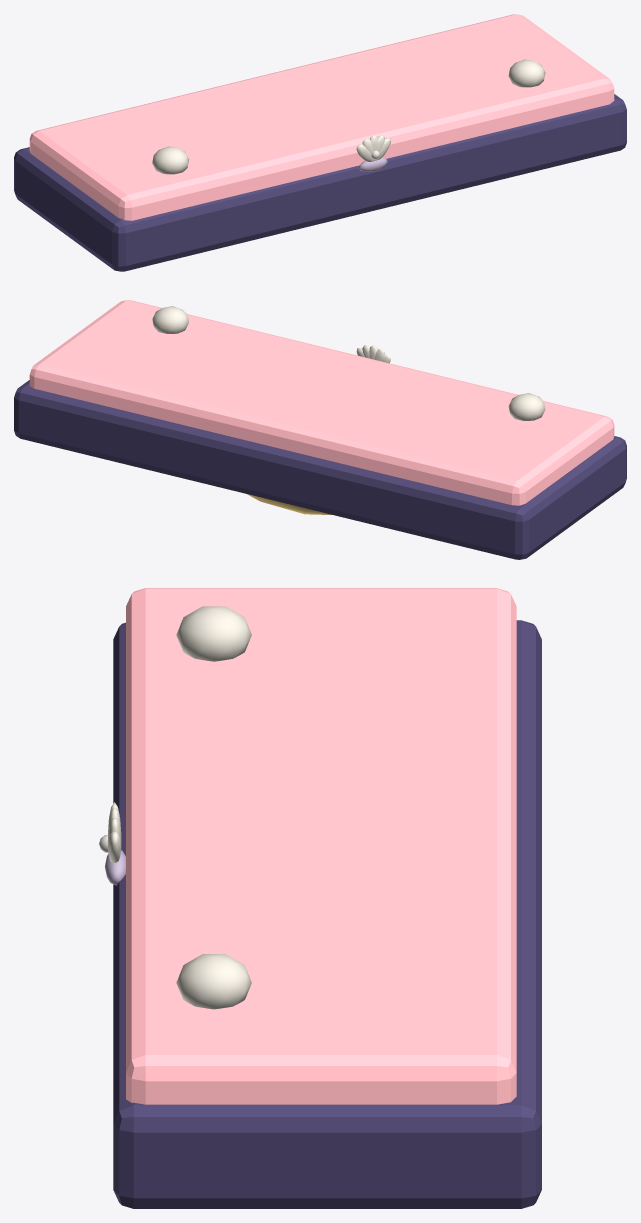
File: pearl_music_bar_0.glb
3 renders of one model, top to bottom at view 1: azimuth 30°, elevation 25°; view 2: azimuth 150°, elevation 25°; view 3: azimuth 270°, elevation 25°, orthographic. The views are drawn at different scales.
Parts seen in each view (by area): view 1: pearl_music_bar_0.001; view 2: pearl_music_bar_0.001; view 3: pearl_music_bar_0.001.
Part boxes in pixels (x1,y1,x2,y2): pearl_music_bar_0.001: (14,14,626,271); pearl_music_bar_0.001: (14,300,626,559); pearl_music_bar_0.001: (99,588,541,1208).
Size of the model in its own units: 7.53 by 1.7 by 2.81.
